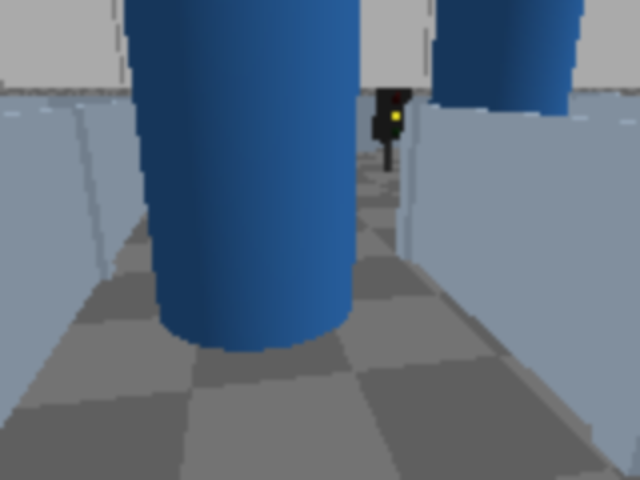traffic_light: (372, 84, 411, 176)
